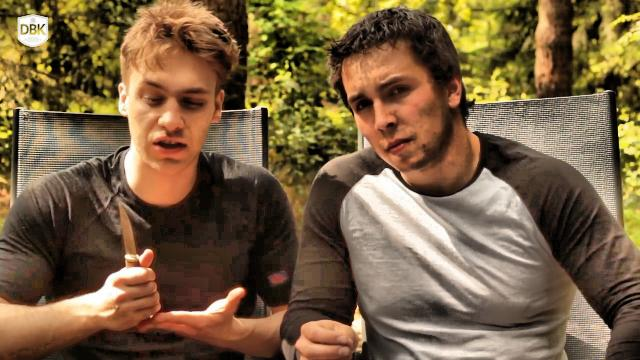knife: (101, 192, 163, 306)
